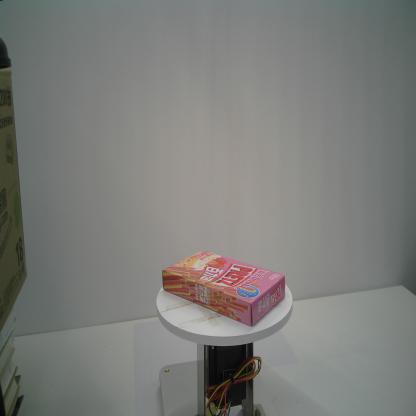Dessert: (162, 249, 286, 327)
